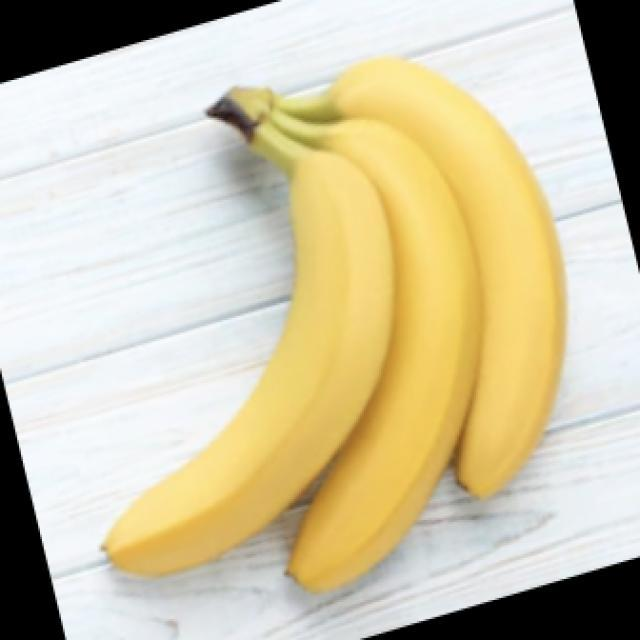Banana: (99, 54, 568, 595)
